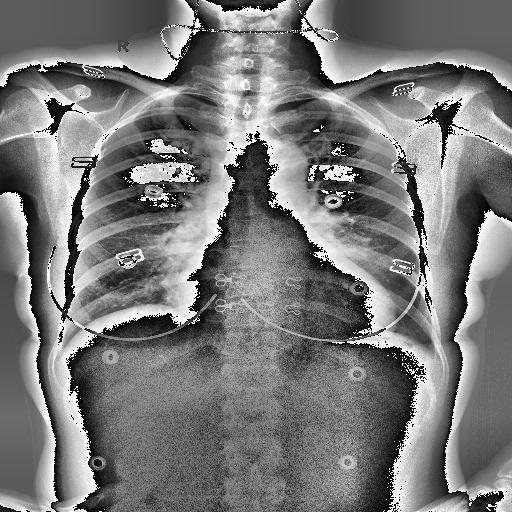0- Aortic enlargement: (256, 140, 309, 214)
3- Cardiomegaly: (174, 246, 396, 338), (178, 258, 396, 330), (175, 278, 398, 330)
